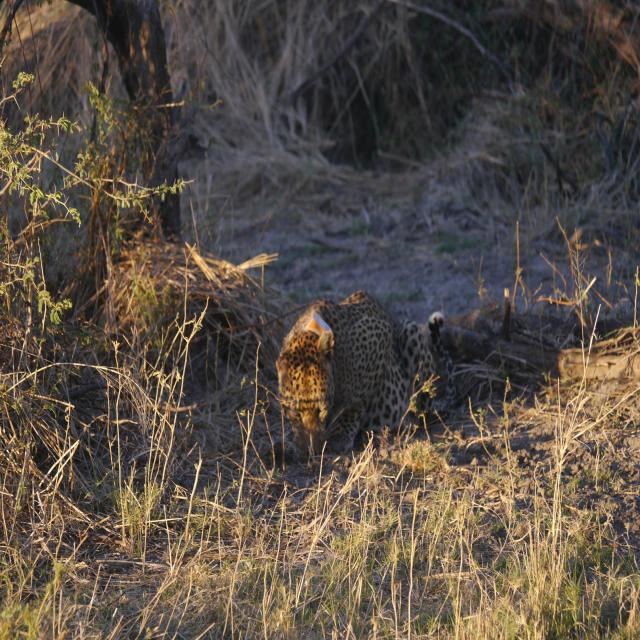Leopard: (278, 293, 451, 449)
